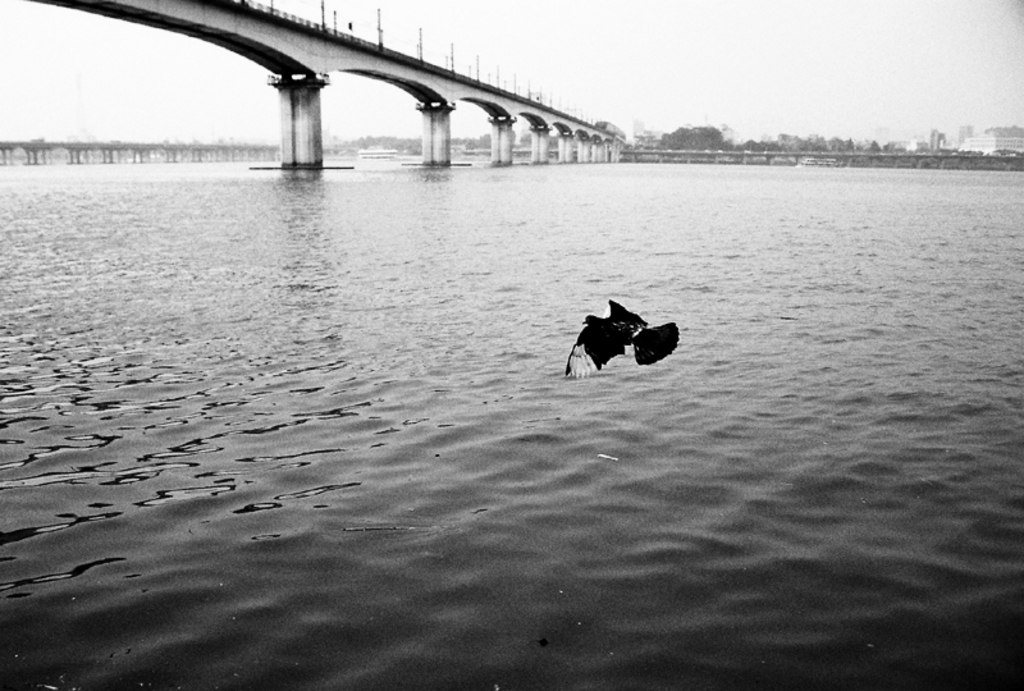Animal: (561, 299, 678, 375)
